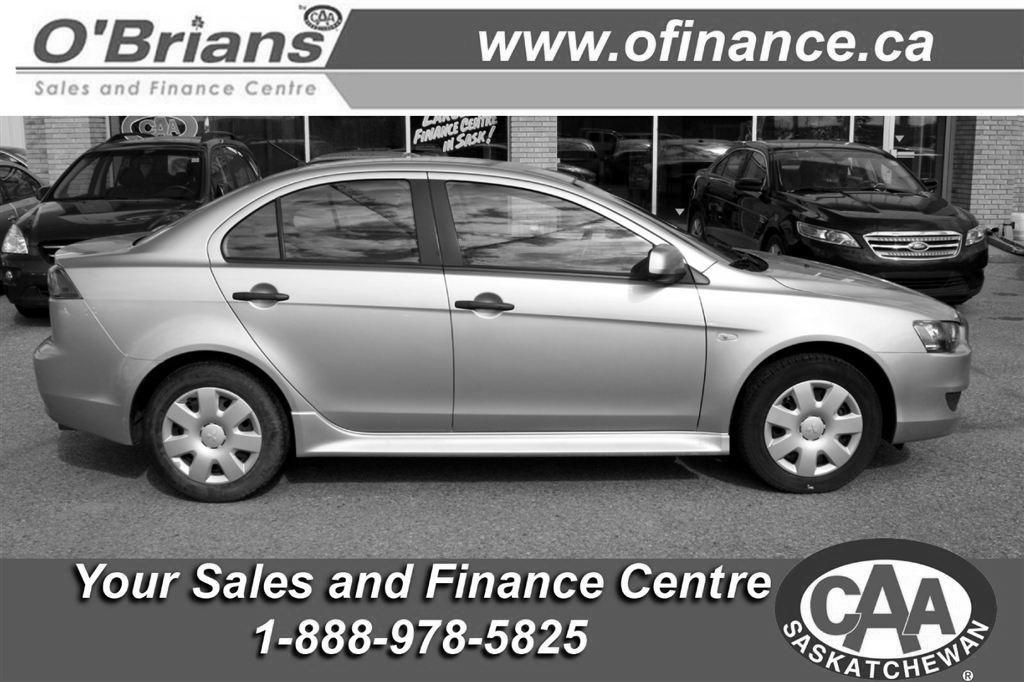car: (30, 152, 980, 503)
